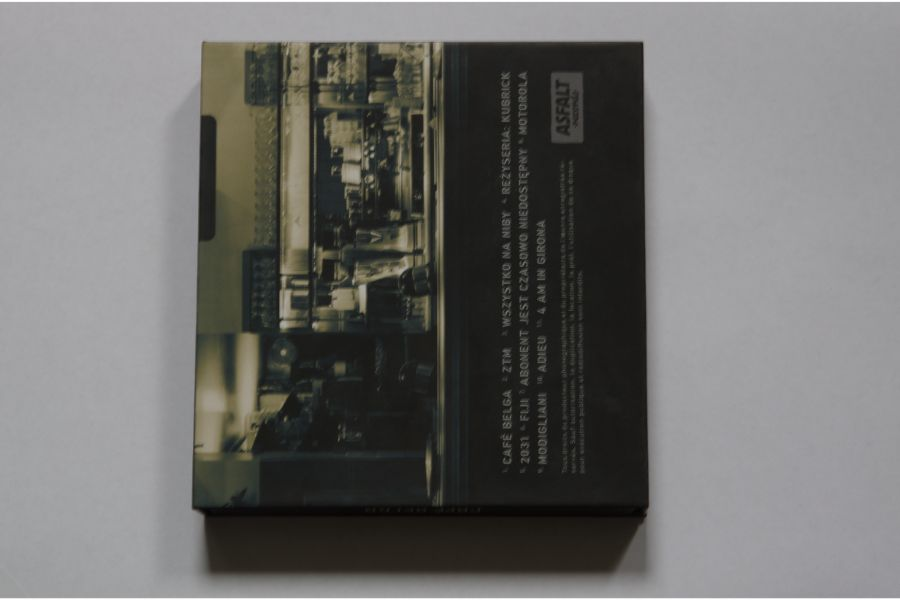album: (191, 37, 650, 517)
